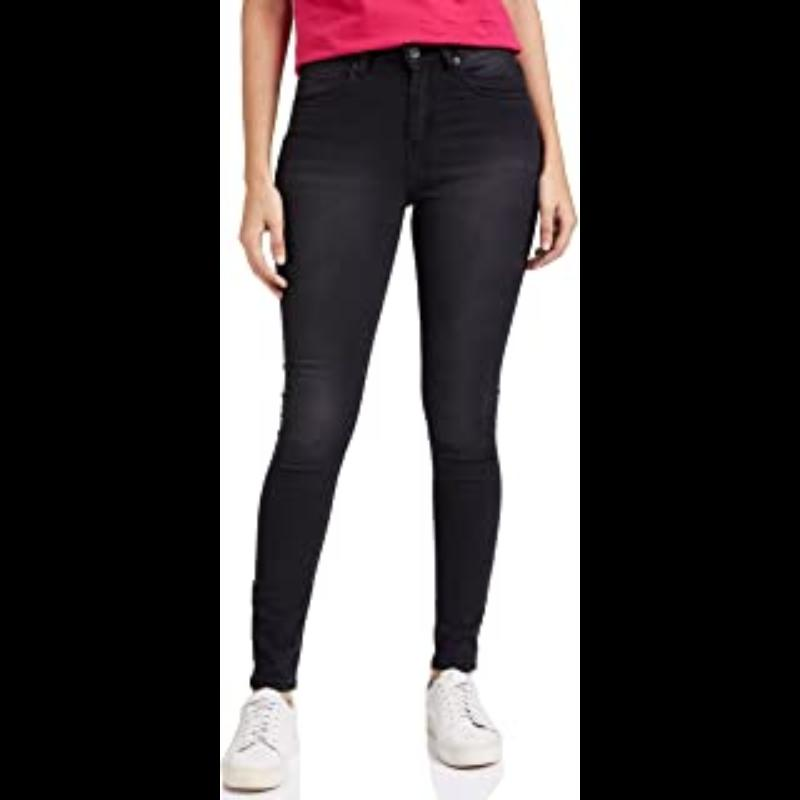Jeans: (270, 65, 546, 665)
Tshirt: (273, 2, 545, 68)
